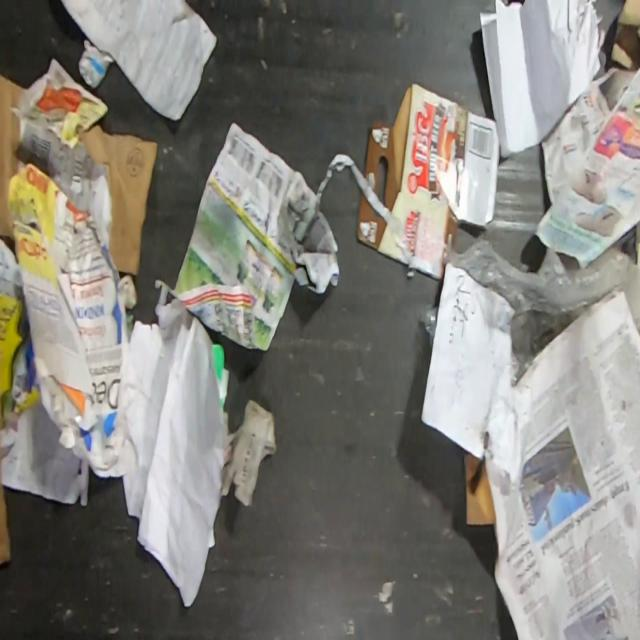cardboard: (0, 71, 160, 278), (364, 80, 501, 280), (354, 188, 409, 266), (462, 448, 496, 528), (0, 439, 13, 567)
soft_plastic: (445, 238, 640, 388), (419, 304, 439, 350)
